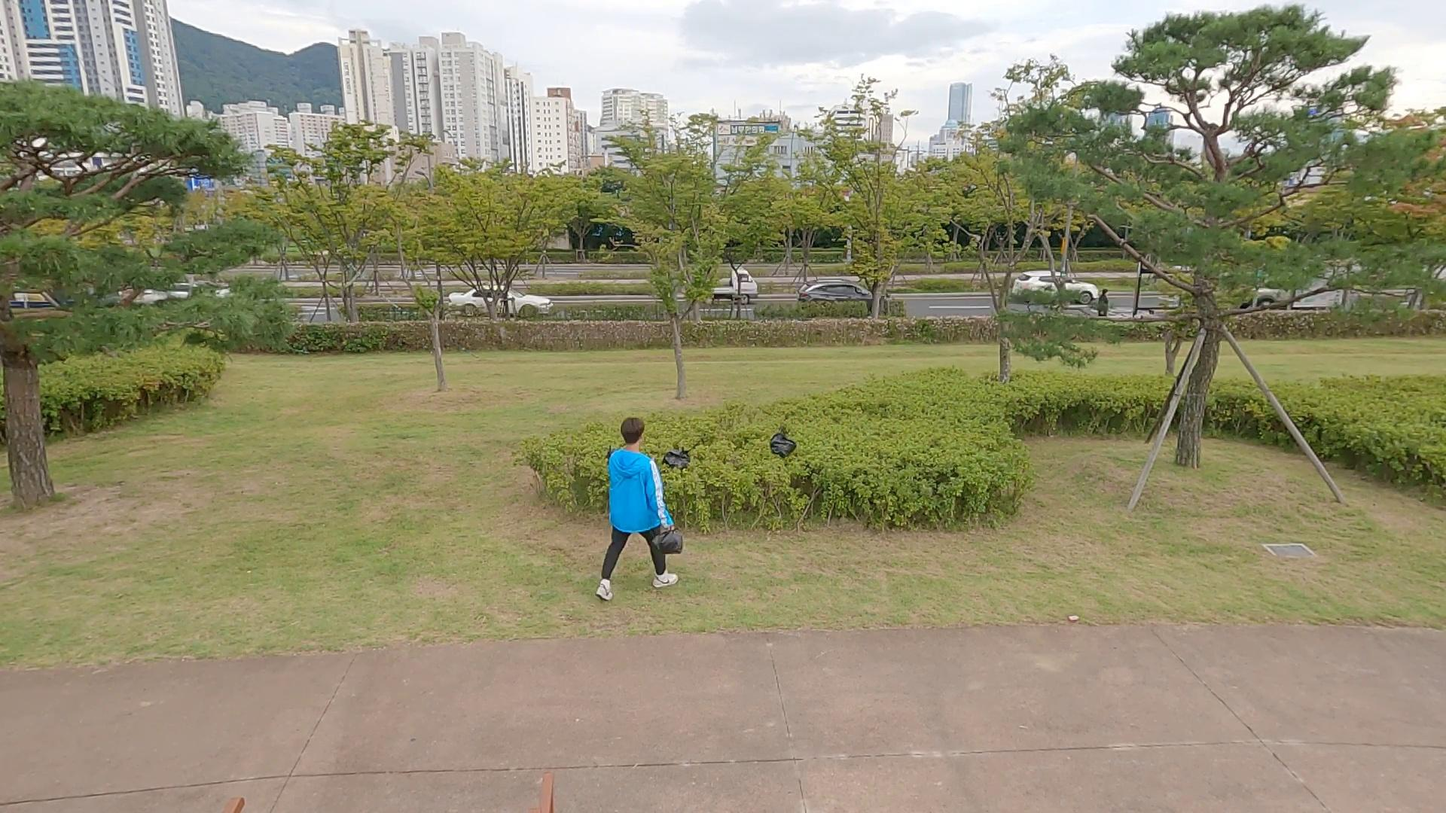person: (595, 415, 681, 603)
trash: (651, 525, 684, 556), (769, 426, 798, 459), (662, 445, 692, 471)
